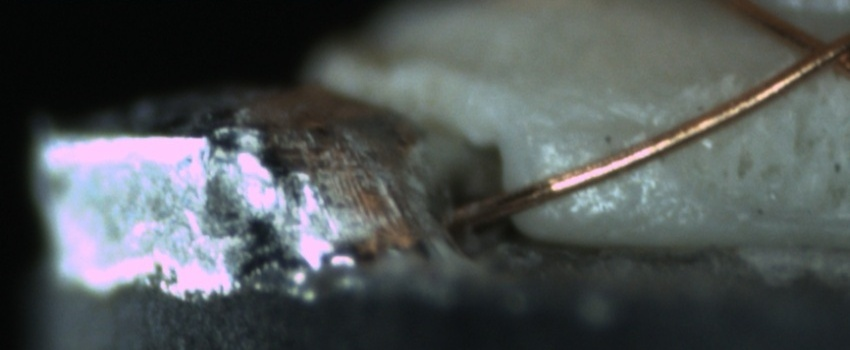CL: (779, 18, 849, 83)
DL: (533, 94, 665, 160)
